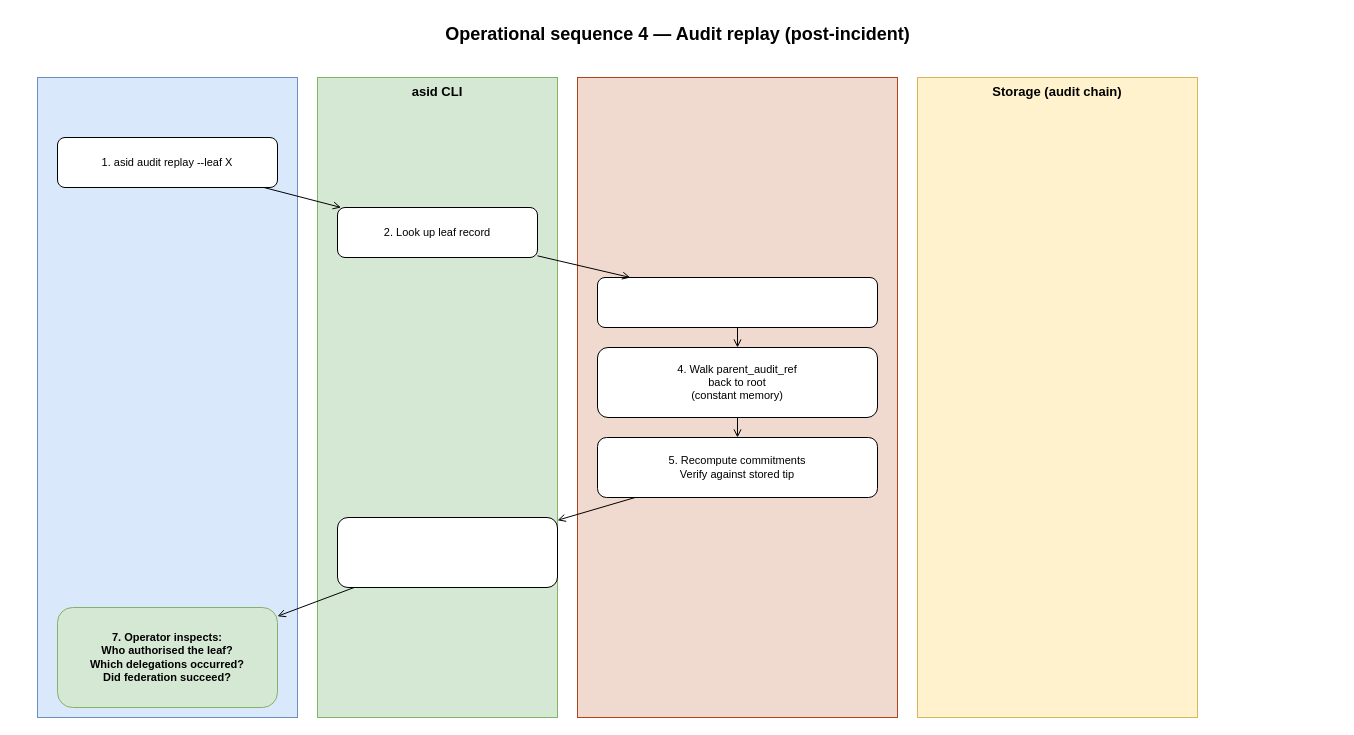
The diagram is 1354 pixels wide and 735 high, and some of its shapes have lost their labels. Here are the shapes that lost their labels. From the top down, the box of each, then its label:
(596, 276, 878, 328): 3. Fetch record by audit_ref
(36, 76, 298, 718): Operator / Auditor
(576, 76, 898, 718): MerkleChainIdentityAdapter
(336, 516, 558, 588): 6. Return chain of records from leaf to root + tamper-check result
